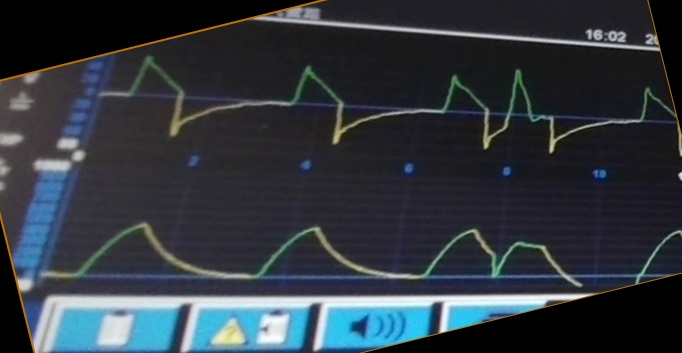Double_Triggering Flow: (102, 54, 660, 153)
Double_Triggering Volume: (79, 217, 669, 287)
